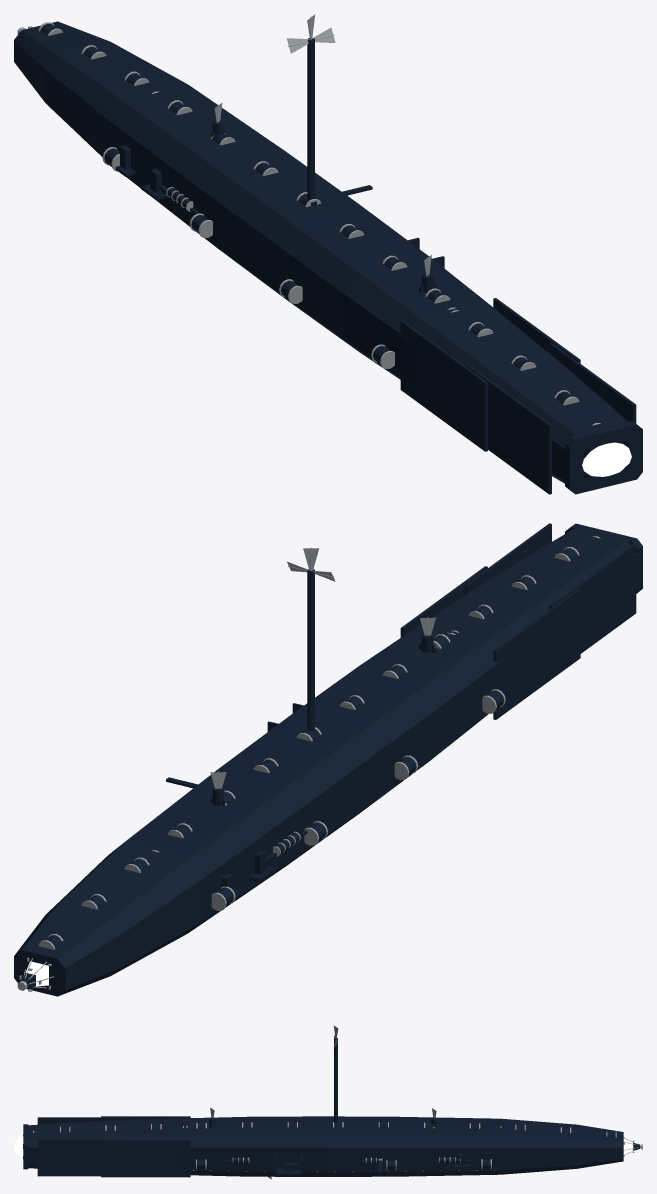
3 views of the same model, one above another, from view 1: azimuth 30°, elevation 25°; view 2: azimuth 150°, elevation 25°; view 3: azimuth 270°, elevation 25° (orthographic). The views are drawn at different scales.
Parts seen in each view (by area): view 1: RIMWARD_HULL, RIMWARD_ENGINE_GLOW; view 2: RIMWARD_HULL; view 3: RIMWARD_HULL.
Boxes of the visible parts, bbox=[...] form: RIMWARD_HULL: bbox=[14, 14, 642, 494]; RIMWARD_ENGINE_GLOW: bbox=[582, 442, 631, 476]; RIMWARD_HULL: bbox=[14, 523, 642, 996]; RIMWARD_HULL: bbox=[23, 1025, 642, 1179].
Bounding box in the file's own units: 13.68 × 22.62 × 84.34.
